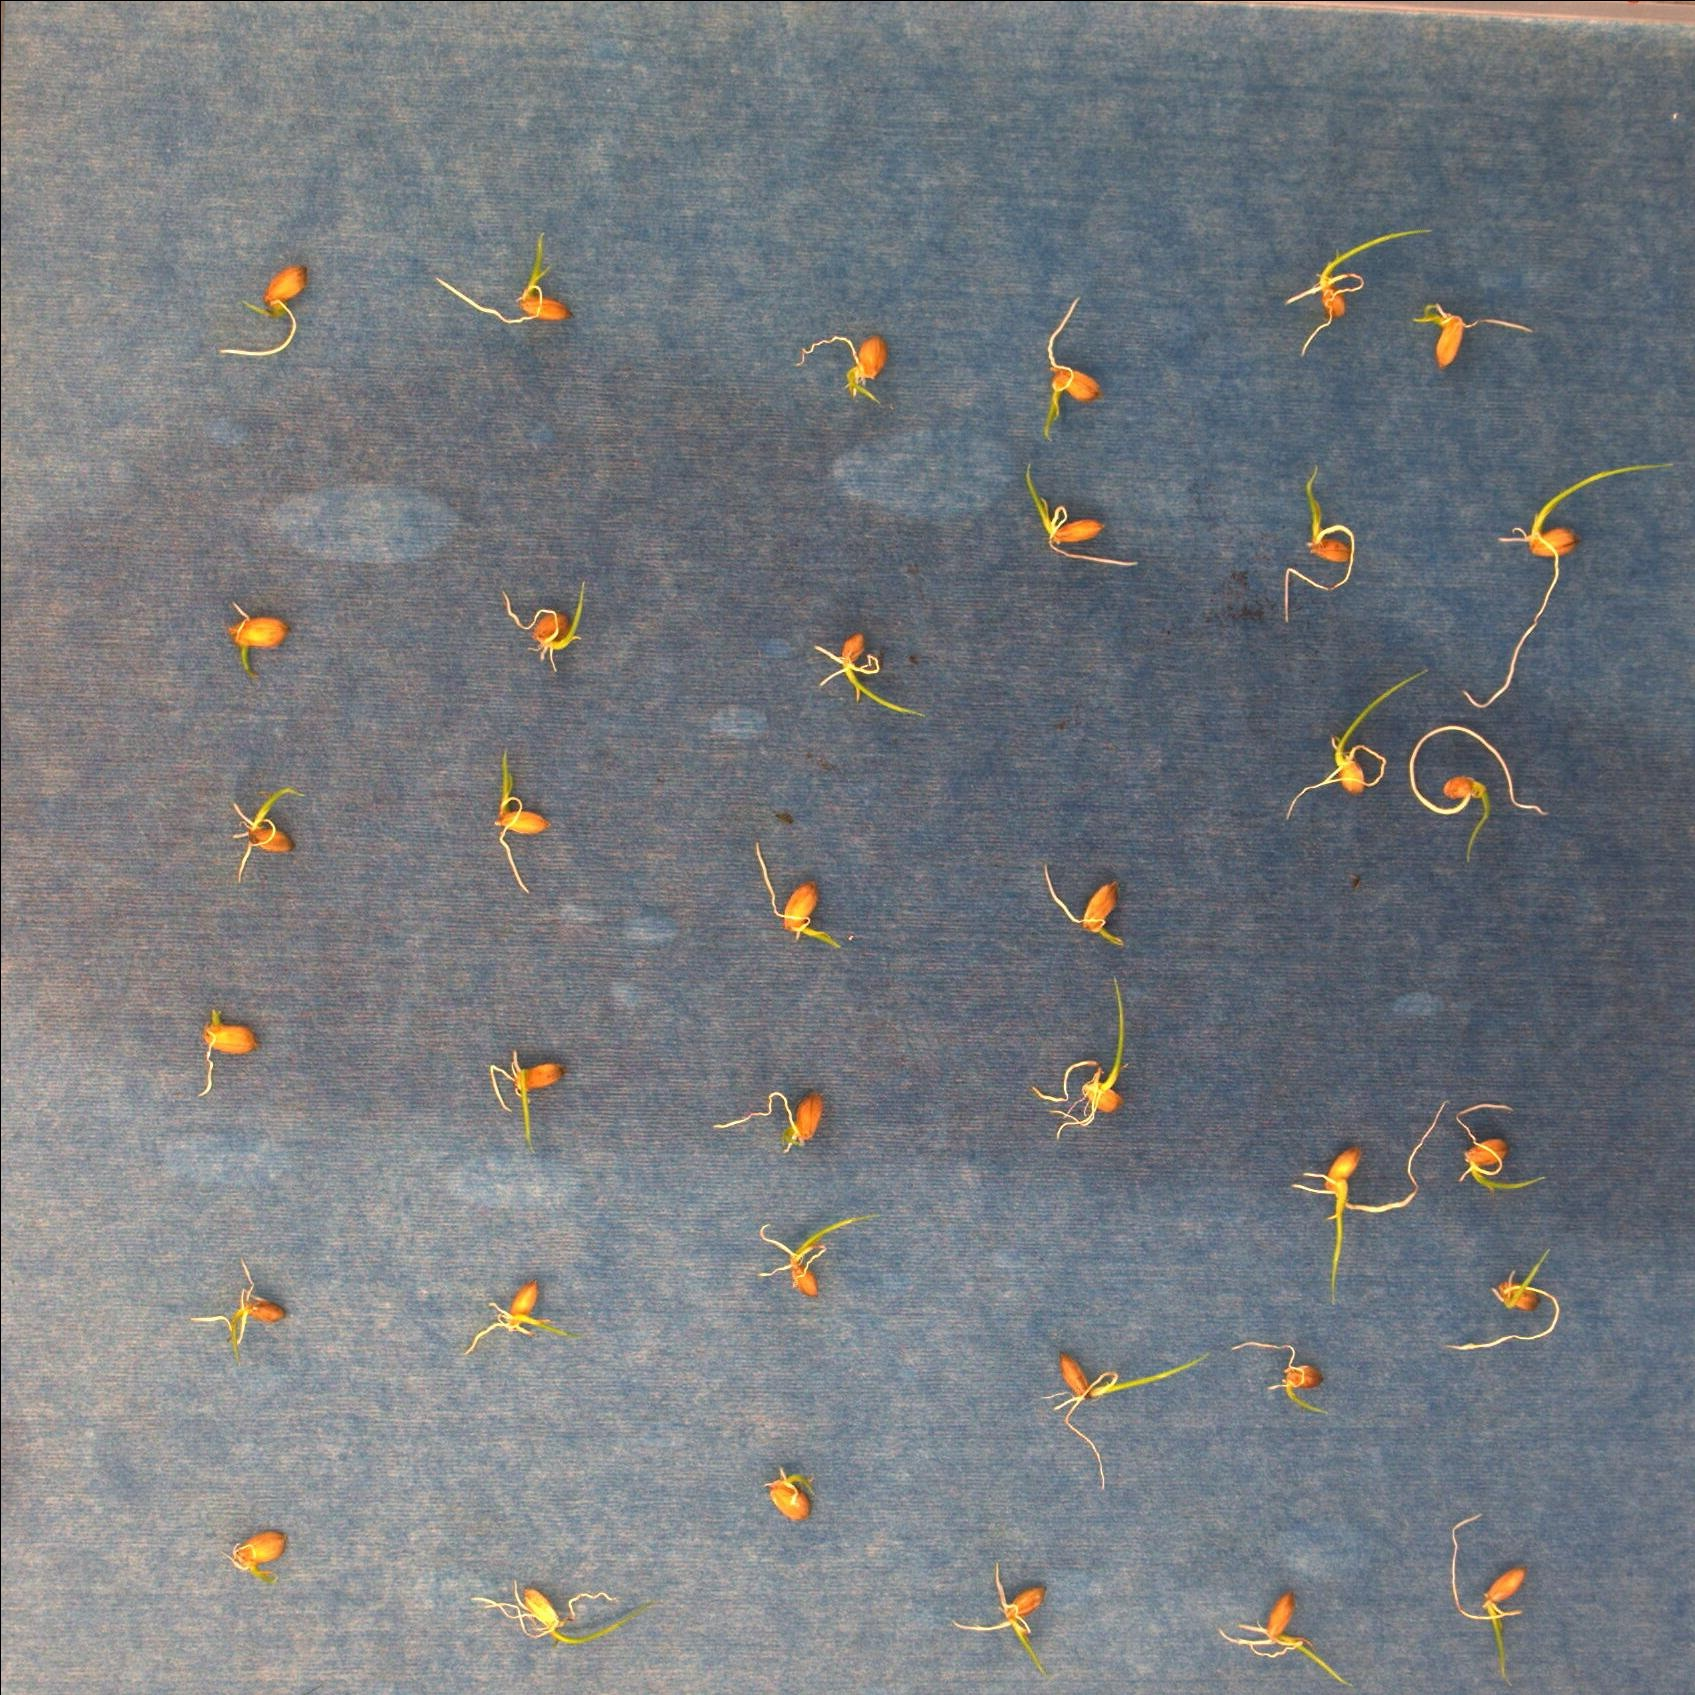not sprout: (464, 1580, 663, 1645), (708, 1080, 826, 1159), (197, 1004, 259, 1094)
sprout: (1461, 461, 1678, 708), (1295, 1097, 1450, 1304), (1043, 1343, 1217, 1493), (1277, 667, 1428, 824), (1406, 723, 1552, 868), (1285, 224, 1437, 359), (1031, 973, 1125, 1142), (1212, 1586, 1361, 1690), (1445, 1513, 1530, 1687), (432, 233, 574, 326), (1444, 1243, 1562, 1354), (1021, 461, 1144, 567), (945, 1560, 1057, 1675), (1281, 459, 1354, 622), (804, 632, 931, 723), (747, 835, 844, 953), (754, 1212, 886, 1298), (461, 1274, 581, 1360), (191, 1260, 286, 1367), (483, 1048, 573, 1153), (1450, 1099, 1546, 1192), (498, 577, 588, 677), (1226, 1338, 1335, 1420), (792, 324, 893, 411), (214, 264, 307, 357), (1043, 296, 1101, 445), (1038, 857, 1132, 948), (490, 747, 546, 899), (1412, 303, 1538, 368), (228, 782, 303, 880), (224, 601, 289, 683), (224, 1524, 290, 1597), (754, 1464, 820, 1523)
